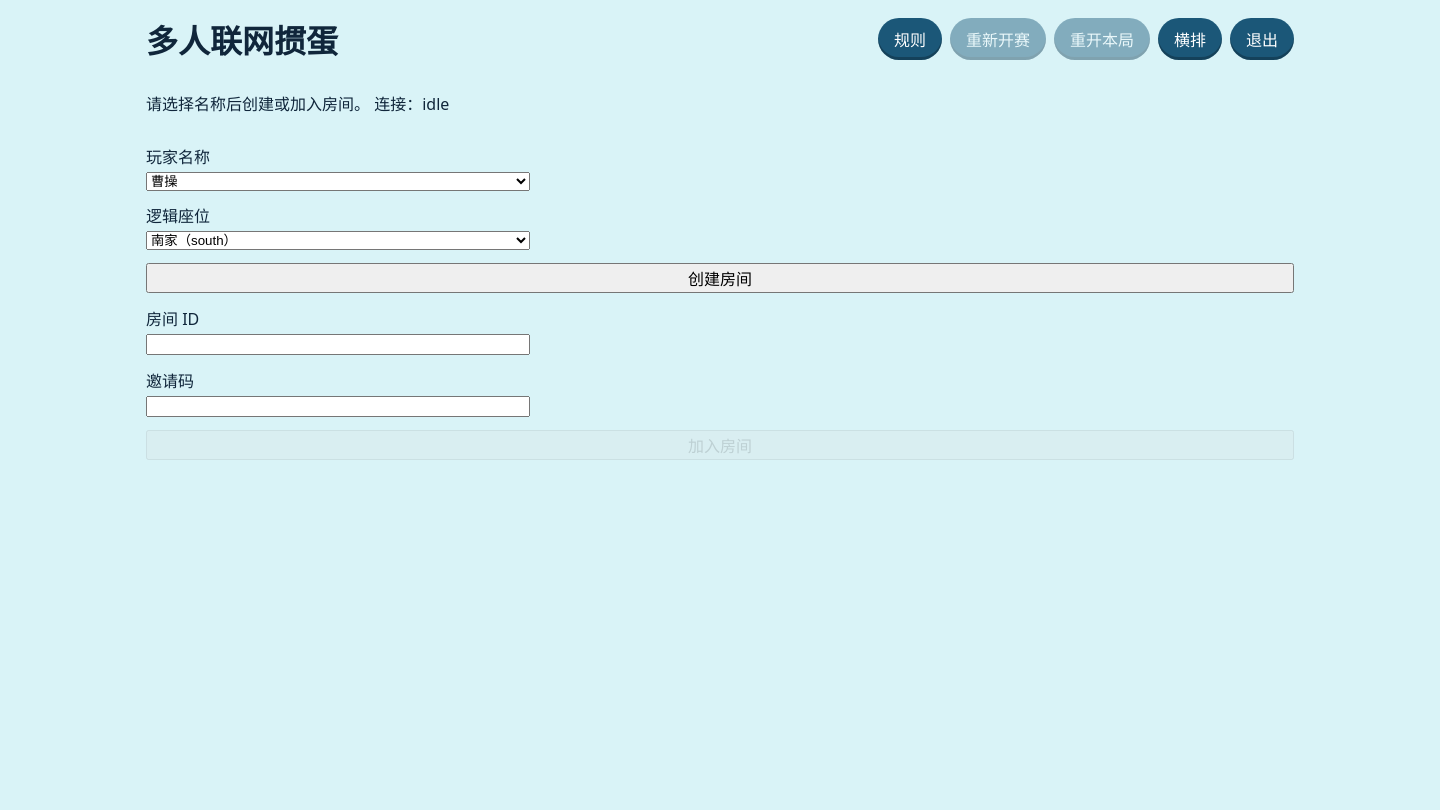
Test: 多人前端 › reports a readable action conflict instead of silently ignoring it
Click the button "创建房间". click: (720, 278)
box: [146,263,1294,293]
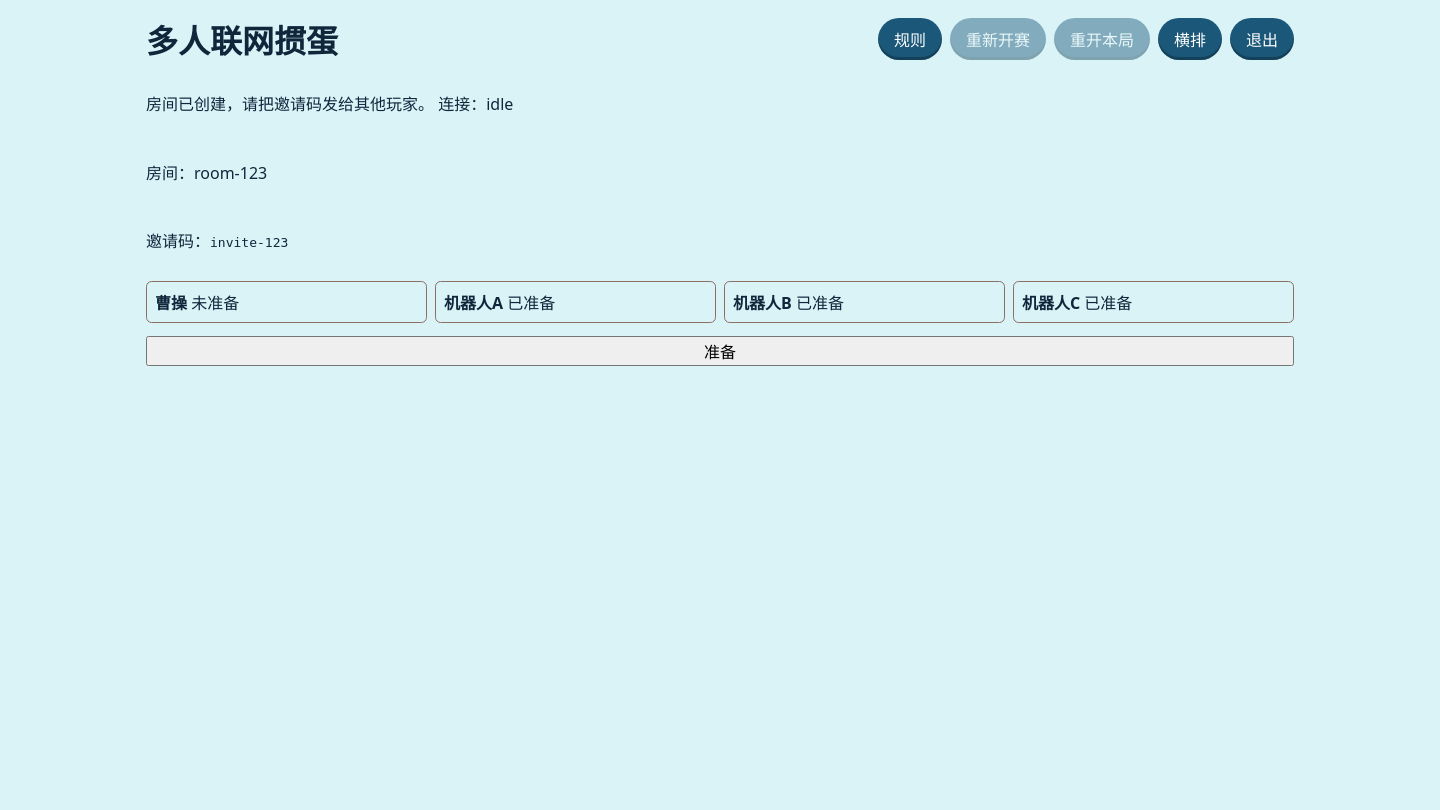
Check: the element named "多人房间" is shown, box [146,144,1294,366]
Click the button "准备". click: (720, 351)
box: [146,336,1294,366]
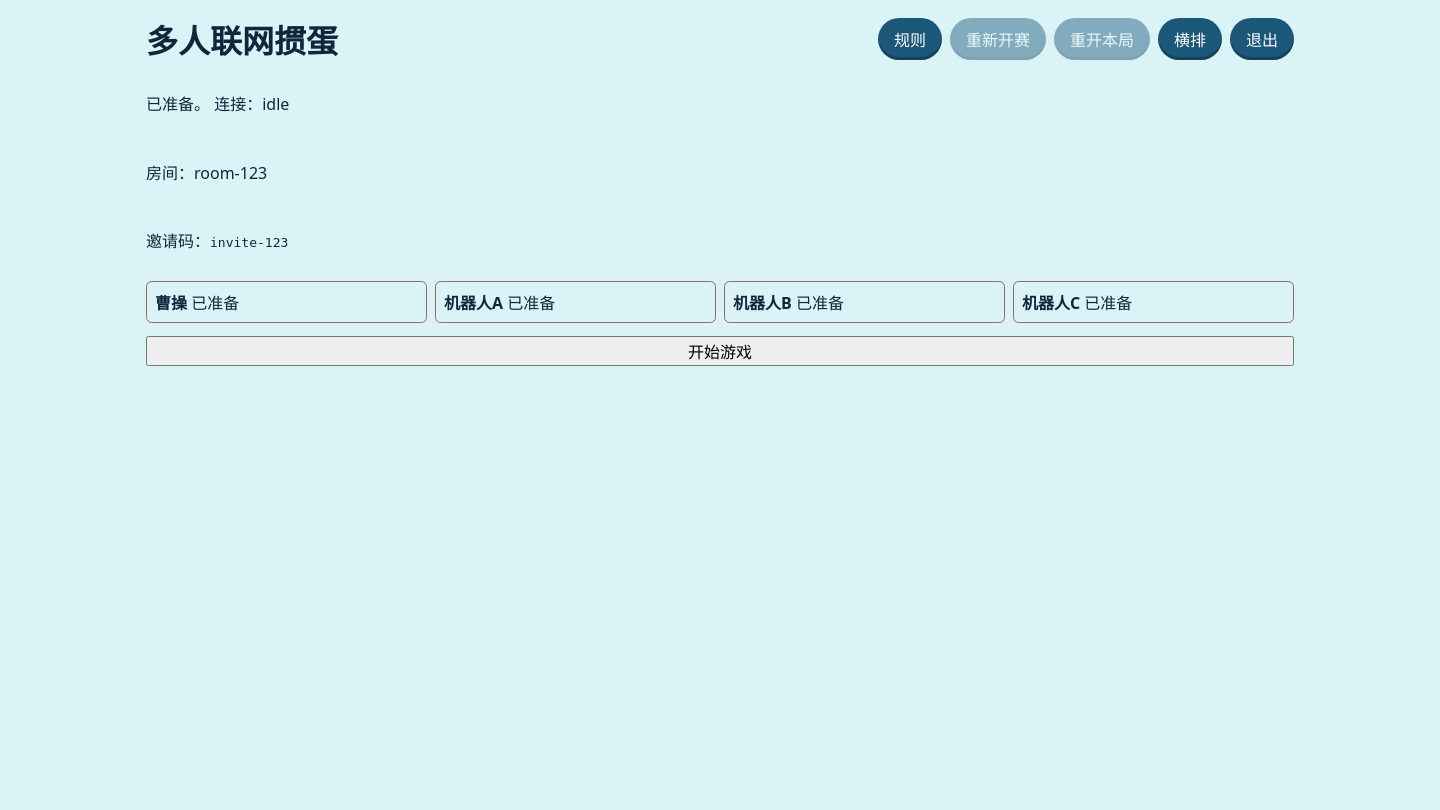
Check: the button "开始游戏" is enabled
Click the button "开始游戏". click: (720, 351)
box: [146,336,1294,366]
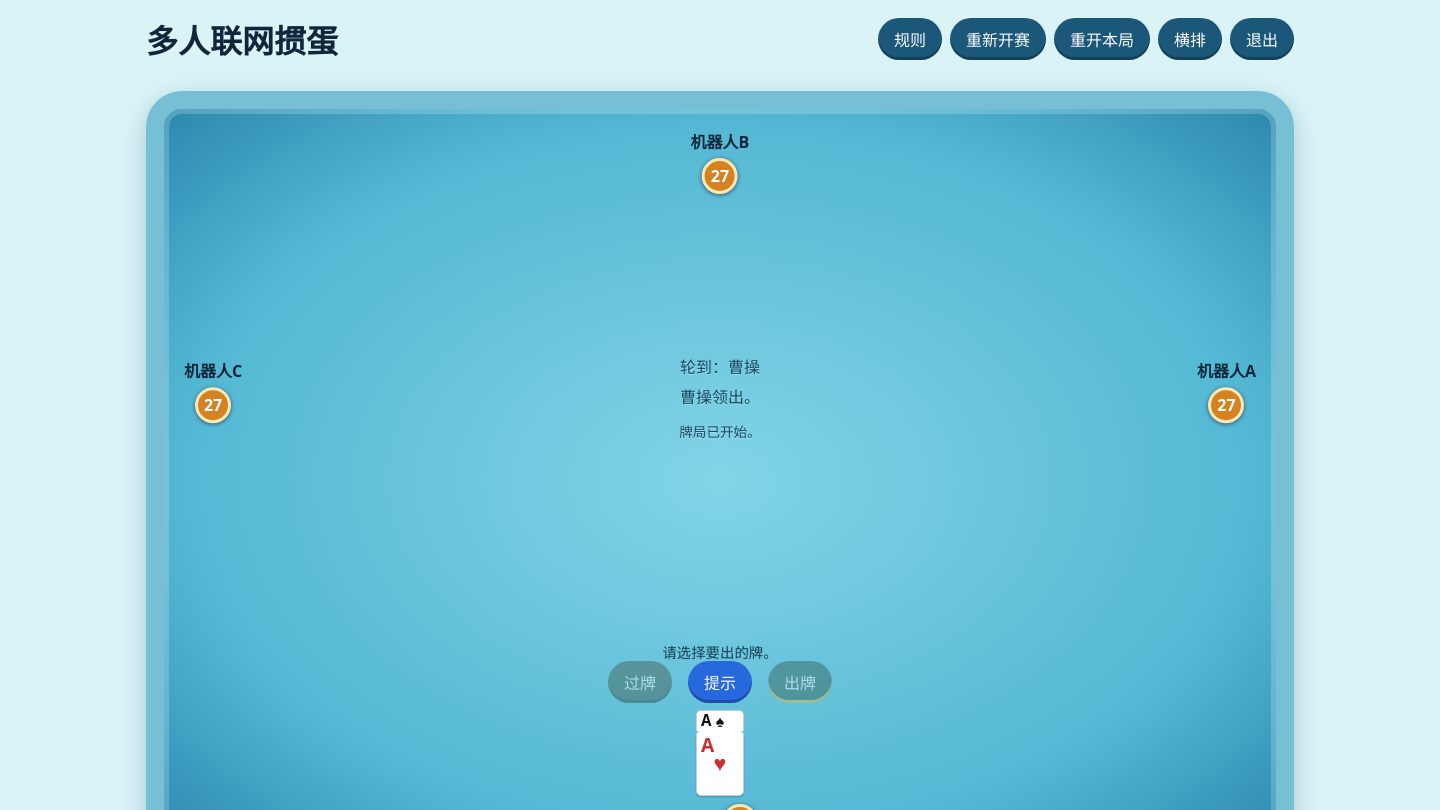
Click the button named "选择♠A". click: (720, 721)
box: [696,710,744,731]
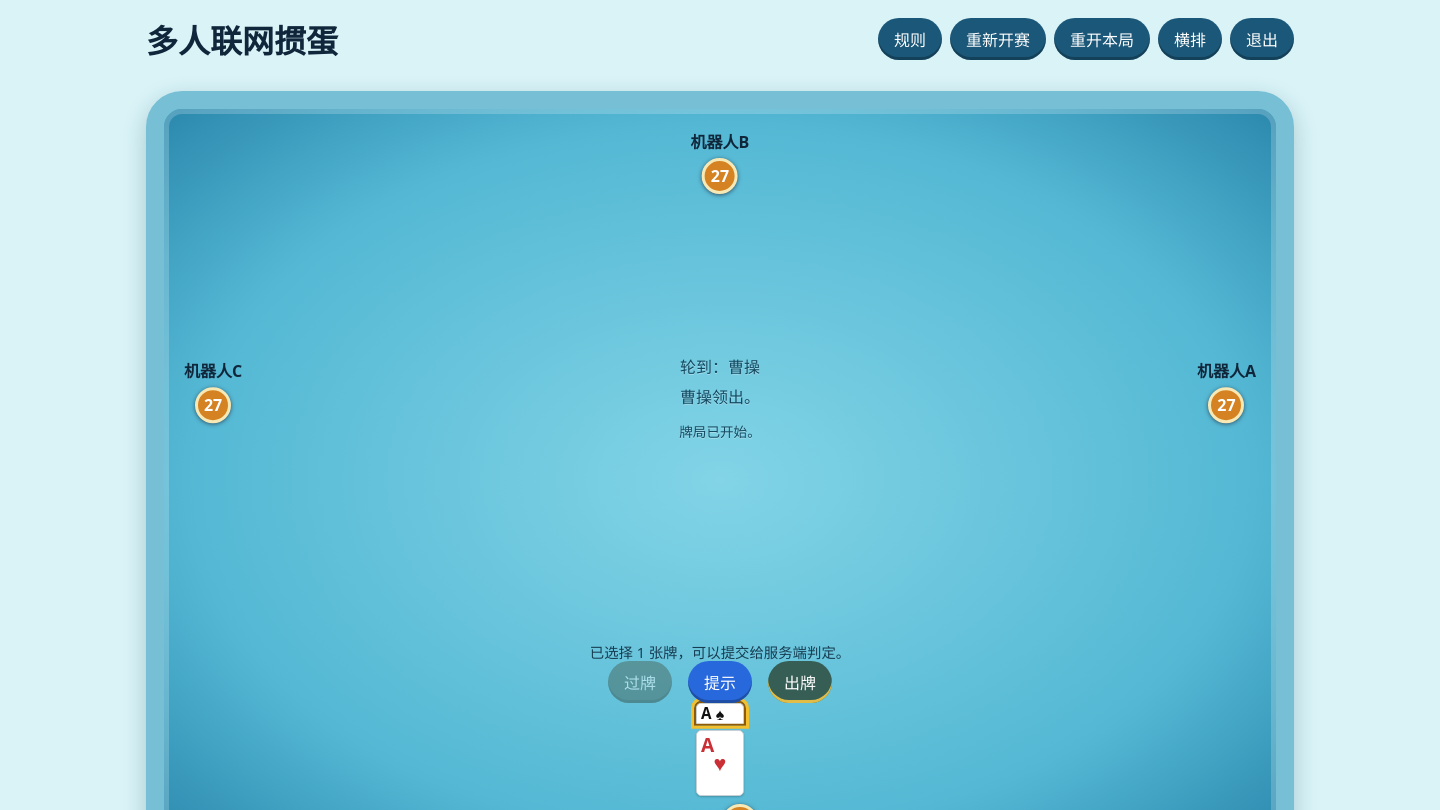
Click the button "出牌". click: (800, 682)
box: [768,662,832,703]
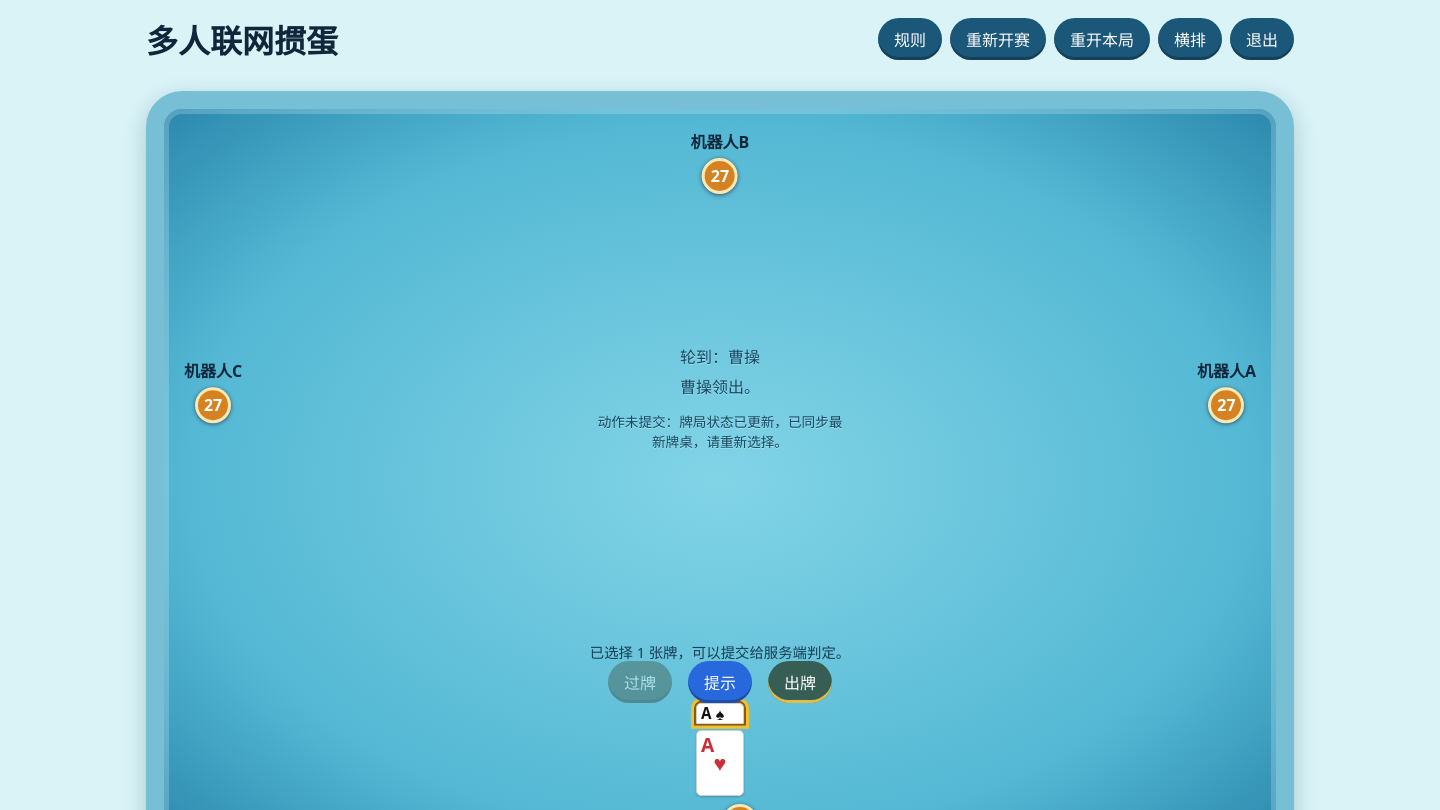
Check: the message reads "动作未提交：牌局状态已更新，已同步最新牌桌，请重新选择。", box [598,413,842,452]
